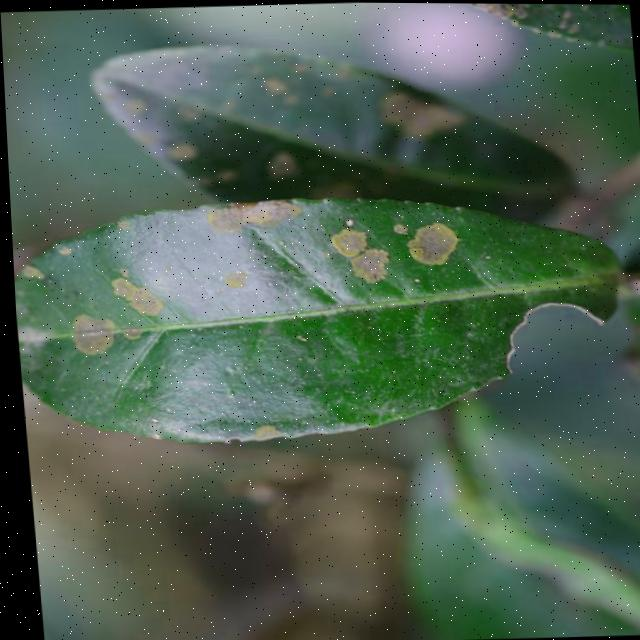Tea algae leaf spot: (32, 188, 486, 376)
